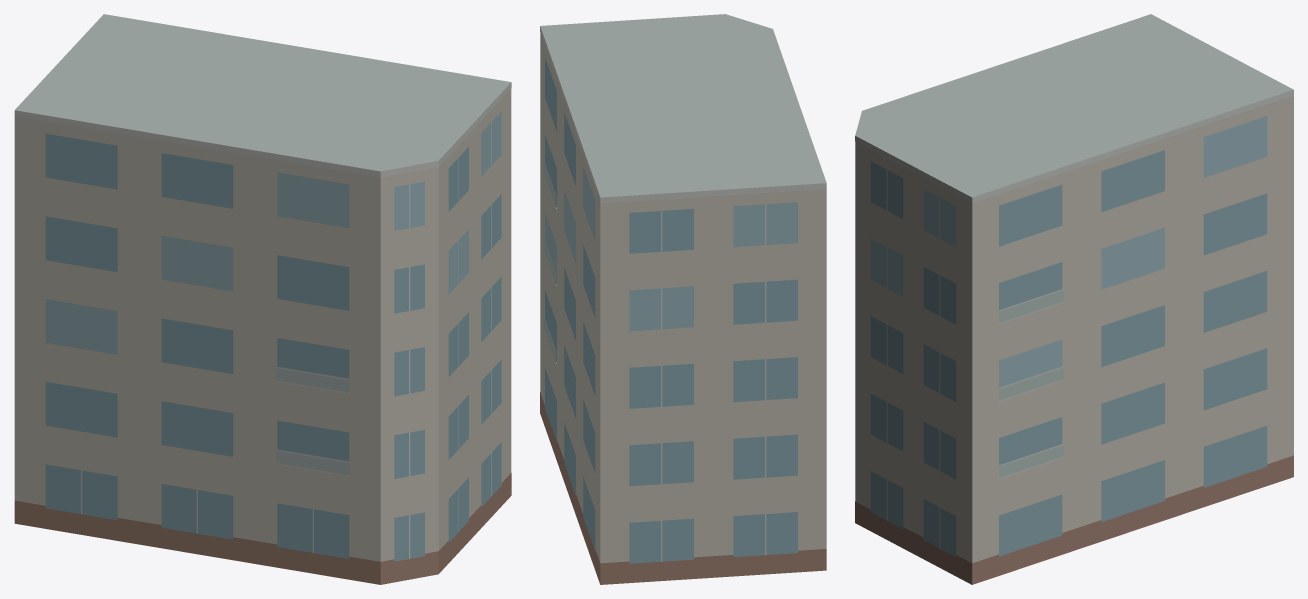
File: survey-upis-32740778.glb
The picture shows the model from 3 angles, left to right: view 1: azimuth 30°, elevation 25°; view 2: azimuth 150°, elevation 25°; view 3: azimuth 270°, elevation 25°; orthographic projection. The views are drawn at different scales.
Visible parts, largest first — view 1: survey-upis-32740778.tmp; view 2: survey-upis-32740778.tmp; view 3: survey-upis-32740778.tmp.
Part boxes in pixels (x1,y1,x2,y2): survey-upis-32740778.tmp: [14, 14, 511, 584]; survey-upis-32740778.tmp: [540, 14, 826, 584]; survey-upis-32740778.tmp: [855, 14, 1293, 584].
Size of the model in its own units: 16.57 by 16.3 by 16.74.
